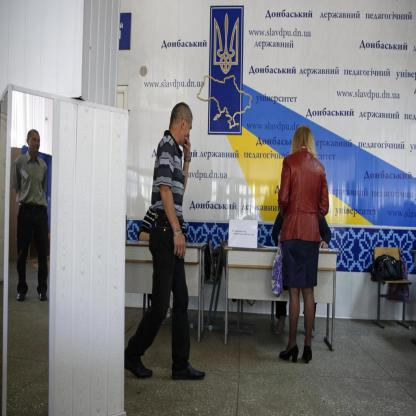face: (183, 114, 194, 146), (31, 133, 41, 153)
